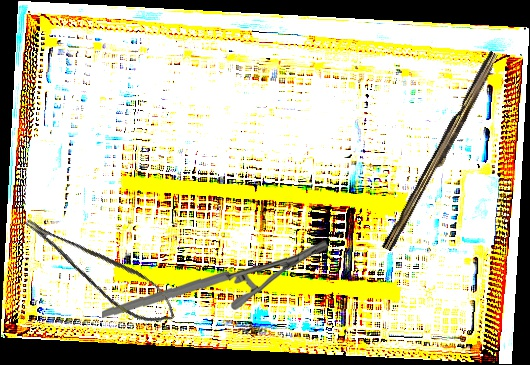Micro Scissor: (20, 193, 185, 341)
Needle Holder: (101, 231, 329, 326)
Scalpel Handle: (381, 48, 503, 256)
